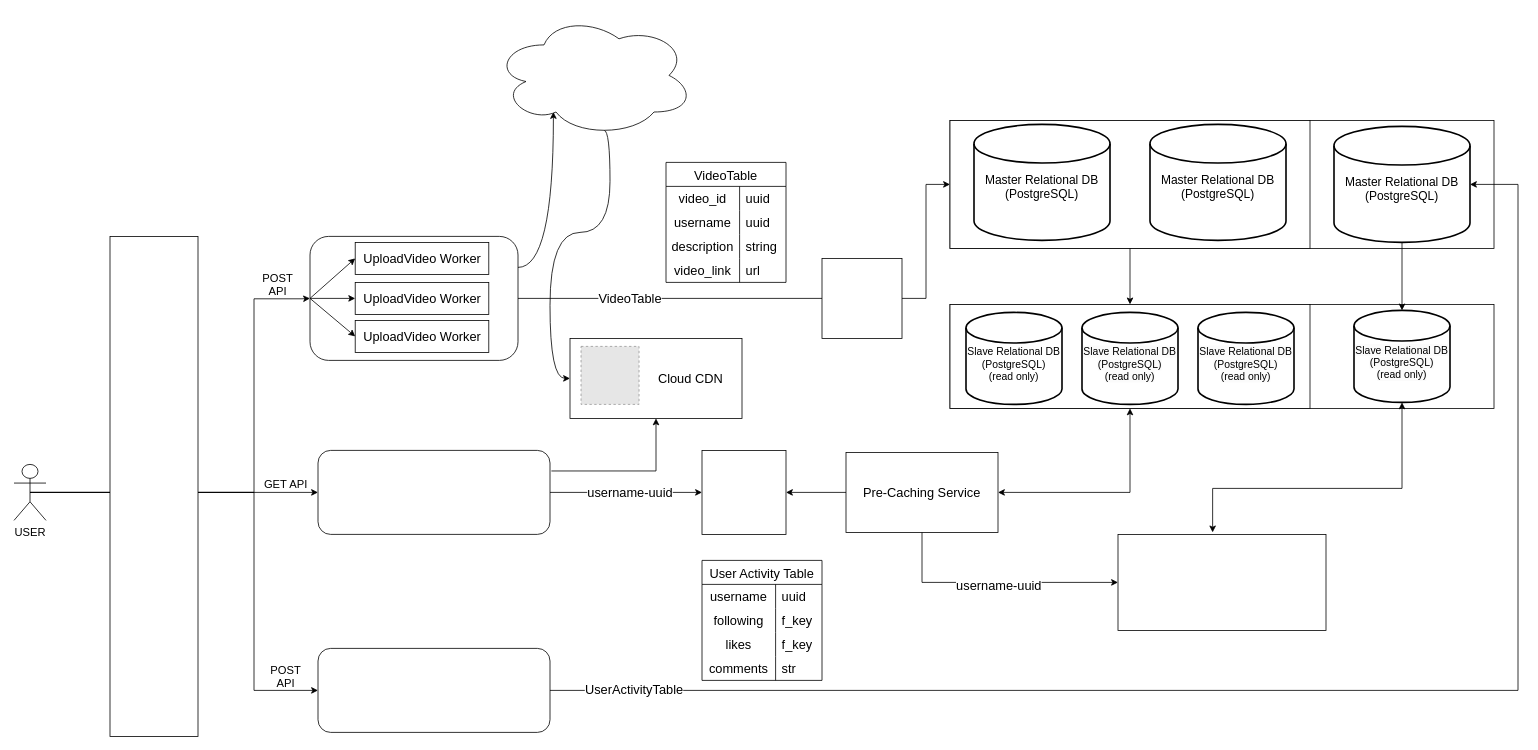
This 1538x750 diagram has some shape labels left out. Grey dashed boxes stand in for pictures. Here are the shapes that lost their labels. From the top down, the centre of each, then its label:
(x=593, y=75): Object Storage (S3)
(x=861, y=298): Shards
(x=153, y=486): LOAD BALANCER
(x=433, y=492): Viewing the Video Feed
(x=743, y=492): Cache (Redis)
(x=1221, y=582): Clip Feed Generation Service
(x=433, y=690): User Activity (like, comment, follow)
